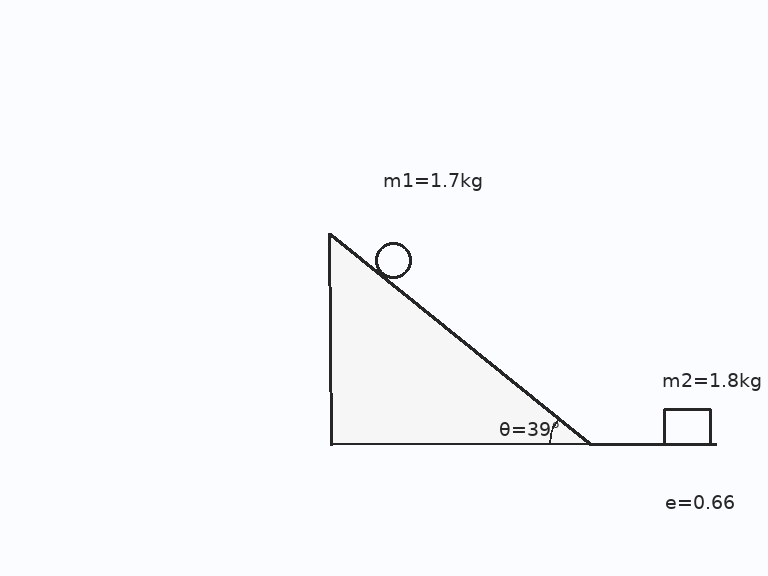ball: (373, 240, 413, 280)
block: (662, 407, 712, 445)
ramp: (329, 231, 592, 445)
